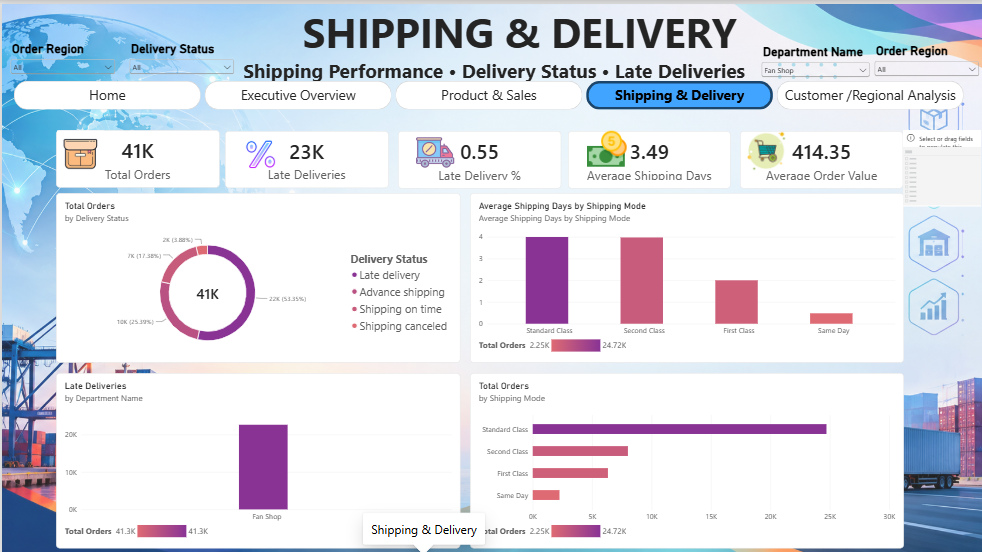

The page's visual inventory and layout, read from the dashboard file:
{"tool":"powerbi","page":{"name":"Shipping & Delivery","canvas":[1920,1080],"ordinal":3},"visuals":[{"type":"textbox","box":[0,0,1919.8,170.1],"z":0},{"type":"card","fields":{"Values":["Measures (2).Total Orders"]},"box":[105.9,247.1,320.5,112.8],"z":1000},{"type":"image","box":[107.6,246.8,91.2,93.4],"z":2000},{"type":"card","fields":{"Values":["Measures (2).Late Delivery %"]},"box":[775.9,248.1,320.3,112.7],"z":3000},{"type":"image","box":[812.2,258.3,74.8,64],"z":4000},{"type":"card","fields":{"Values":["Measures (2).Late Deliveries"]},"box":[438,248.1,320.6,111.8],"z":5000},{"type":"image","box":[438,258.2,140.3,72.3],"z":6000},{"type":"card","fields":{"Values":["Measures (2).Average Order Value"]},"box":[1446.8,248.1,320.3,112.7],"z":7000},{"type":"card","fields":{"Values":["Measures (2).Average Shipping Days"]},"box":[1110.6,248.9,319.1,112.8],"z":8000},{"type":"image","box":[1126.8,240.2,117.2,89.3],"z":9000},{"type":"image","box":[1430.2,241.7,138.1,93.5],"z":10000},{"type":"donutChart","fields":{"Category":["Dim_Customers.Delivery Status"],"Y":["Measures (2).Total Orders"]},"box":[106.7,371.1,793.3,333.3],"z":11000},{"type":"columnChart","title":"Average Shipping Days by Shipping Mode","fields":{"Category":["Fact_Supply_Chain_Dataset.Shipping Mode"],"Y":["Measures (2).Average Shipping Days"]},"box":[917.8,371.1,851.1,333.3],"z":12000},{"type":"clusteredColumnChart","fields":{"Category":["Dim_Department.Department Name"],"Y":["Measures (2).Late Deliveries"]},"box":[106.7,724.4,793.3,344.4],"z":13000},{"type":"clusteredBarChart","fields":{"Category":["Fact_Supply_Chain_Dataset.Shipping Mode"],"Y":["Measures (2).Total Orders"]},"box":[917.8,724.4,851.1,344.4],"z":14000},{"type":"slicer","box":[1767,248,153,150],"z":15000},{"type":"slicer","fields":{"Values":["Dim_Order.Order Region"]},"box":[12.3,74.6,214.9,70.2],"z":16000},{"type":"slicer","fields":{"Values":["Fact_Supply_Chain_Dataset.Delivery Status"]},"box":[245.6,74.6,214.9,70.2],"z":17000},{"type":"slicer","fields":{"Values":["Dim_Order.Order Region"]},"box":[1706.7,77.8,214.9,70.2],"z":18000},{"type":"slicer","fields":{"Values":["Dim_Department.Department Name"]},"box":[1484.4,80,221.9,70.2],"z":19000},{"type":"pageNavigator","box":[23.5,151,1866.7,56.9],"z":20000}]}

Visuals, with their boxes on the page's 1920x1080 design canvas (x1, y1, x2, y2). These are canvas units, not pixel positions in the 982x552 screenshot, which may show the page scaled, cropped or inside an application window:
textbox: 0, 0, 1920, 170
card - Measures (2).Total Orders: 106, 247, 426, 360
image: 108, 247, 199, 340
card - Measures (2).Late Delivery %: 776, 248, 1096, 361
image: 812, 258, 887, 322
card - Measures (2).Late Deliveries: 438, 248, 759, 360
image: 438, 258, 578, 330
card - Measures (2).Average Order Value: 1447, 248, 1767, 361
card - Measures (2).Average Shipping Days: 1111, 249, 1430, 362
image: 1127, 240, 1244, 330
image: 1430, 242, 1568, 335
donutChart - Dim_Customers.Delivery Status x Measures (2).Total Orders: 107, 371, 900, 704
"Average Shipping Days by Shipping Mode" columnChart: 918, 371, 1769, 704
clusteredColumnChart - Dim_Department.Department Name x Measures (2).Late Deliveries: 107, 724, 900, 1069
clusteredBarChart - Fact_Supply_Chain_Dataset.Shipping Mode x Measures (2).Total Orders: 918, 724, 1769, 1069
slicer: 1767, 248, 1920, 398
slicer - Dim_Order.Order Region: 12, 75, 227, 145
slicer - Fact_Supply_Chain_Dataset.Delivery Status: 246, 75, 460, 145
slicer - Dim_Order.Order Region: 1707, 78, 1922, 148
slicer - Dim_Department.Department Name: 1484, 80, 1706, 150
pageNavigator: 24, 151, 1890, 208
